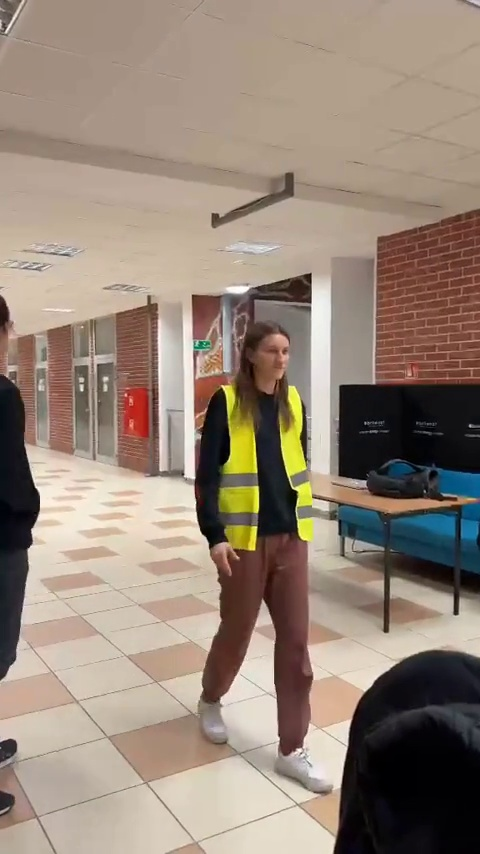vest: (186, 323, 332, 794)
